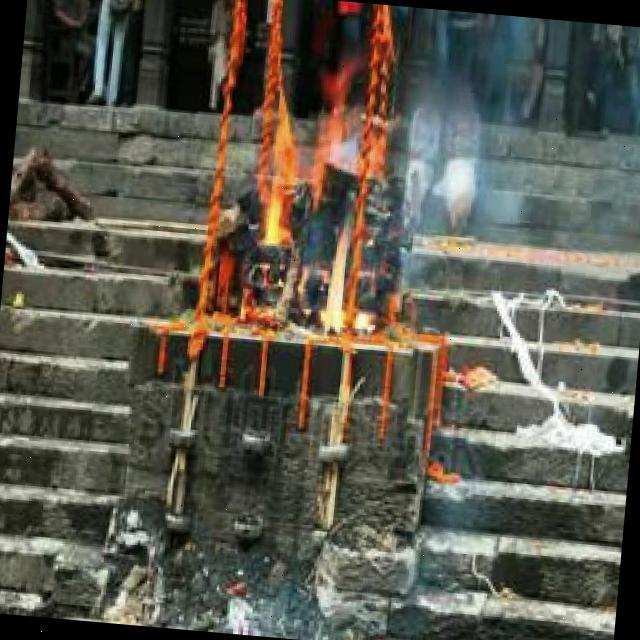fire: (253, 76, 382, 337)
